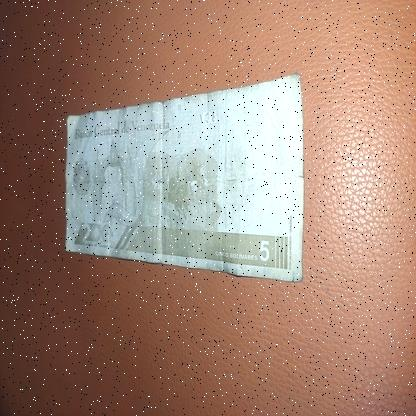five-back-vef: (64, 71, 304, 282)
